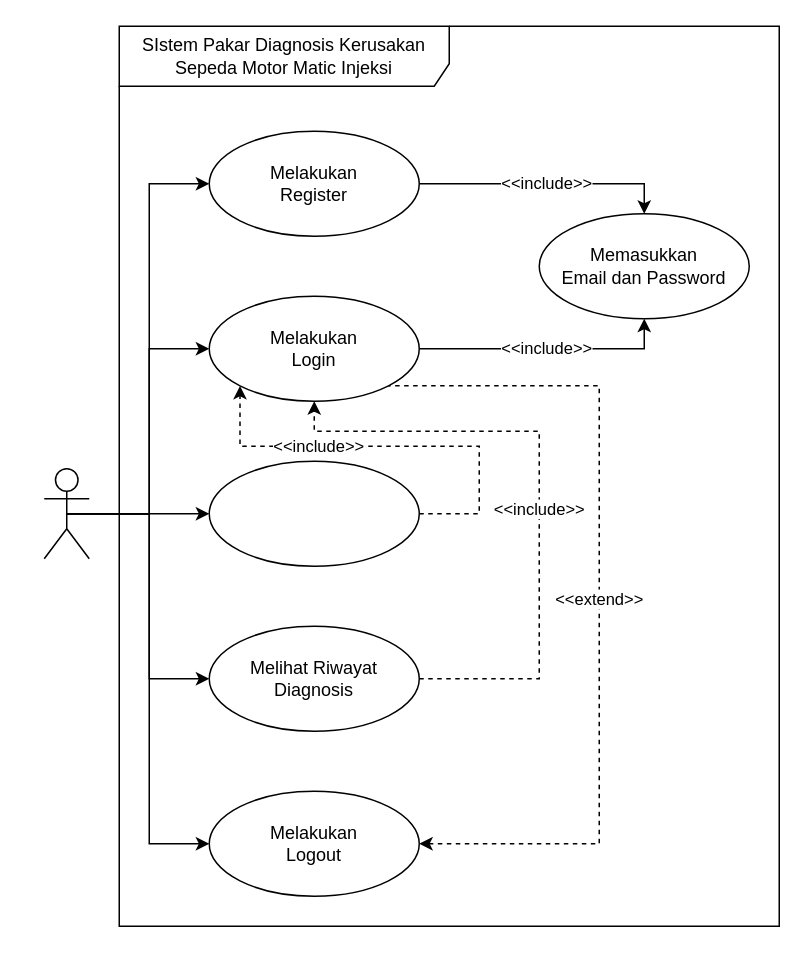
Some shapes in this 806 by 953 pixel diagram are drawn without their labels. Each missing label, with the centre of its shape:
Melakukan Diagnosis: [313,513]
Pengguna Motor: [66,513]
